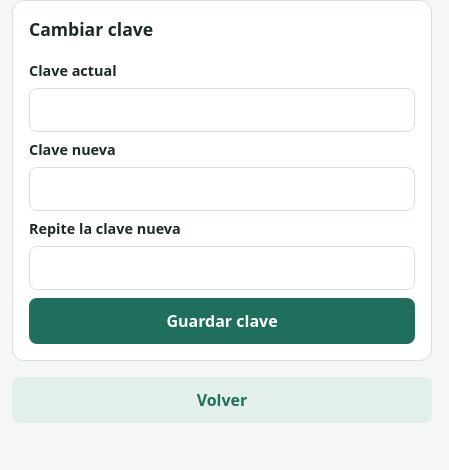
Test case: CambiarClave › muestra el error del backend
Type "mala" into the password field labelled "Clave actual" at (222, 110), box 29,88 -> 415,132
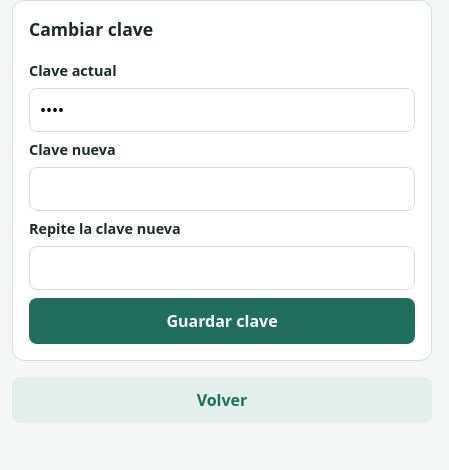
Type "MiClaveNueva1" into the password field labelled "Clave nueva" at (222, 189), box 29,167 -> 415,211
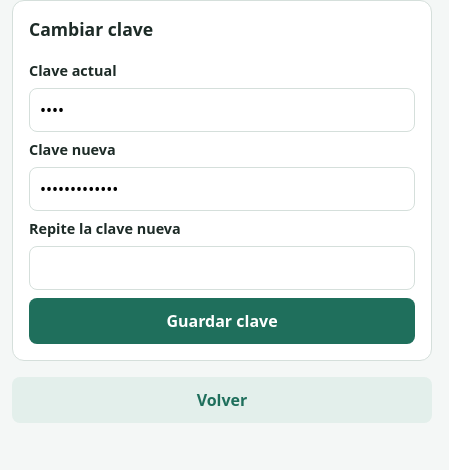
Type "MiClaveNueva1" into the password field labelled "Repite la clave nueva" at (222, 268), box 29,246 -> 415,290
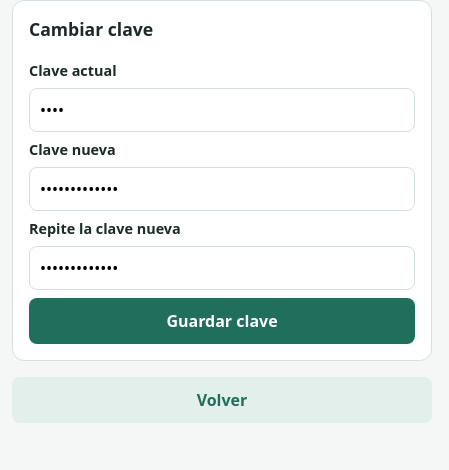
Click the button "Guardar clave" at (222, 321), box 29,298 -> 415,344
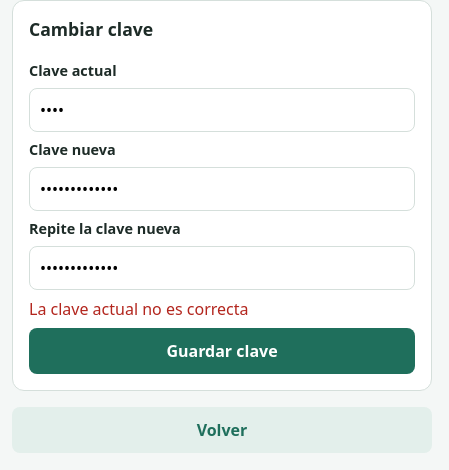
Check: the text "La clave actual no es correcta" is shown, box 29,298 -> 248,320
